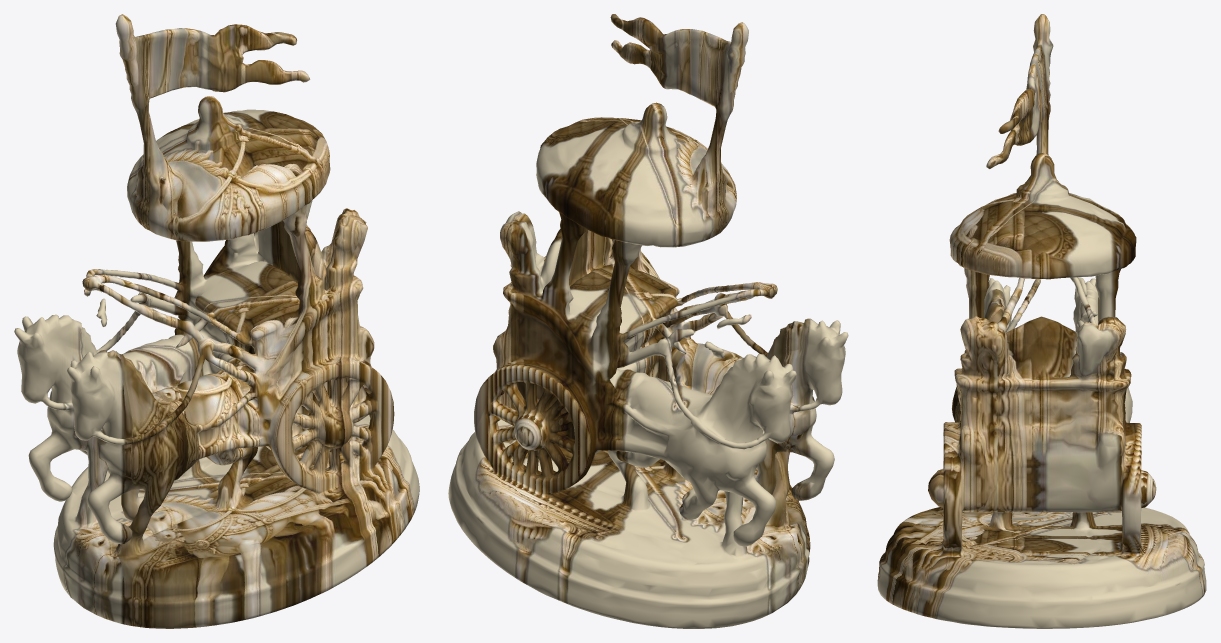
Rendered from ratha.glb.
3 views of the same model, side by side, from view 1: azimuth 30°, elevation 25°; view 2: azimuth 150°, elevation 25°; view 3: azimuth 270°, elevation 25° (orthographic). The views are drawn at different scales.
Parts seen in each view (by area): view 1: geometry_0; view 2: geometry_0; view 3: geometry_0.
Boxes of the visible parts, box(x1,y1,x2,y2) form: geometry_0: box(14, 14, 419, 628); geometry_0: box(448, 14, 848, 628); geometry_0: box(877, 14, 1206, 628).
Bounding box in the file's own units: 1.31 × 2.04 × 1.09.
Materials: 1 (1 with a texture image).
